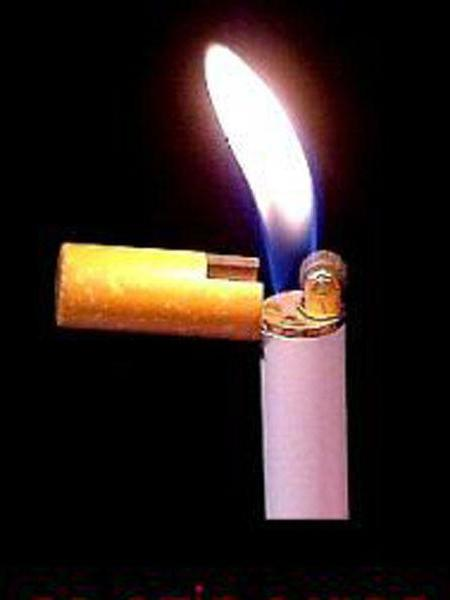fire: (193, 36, 346, 329)
